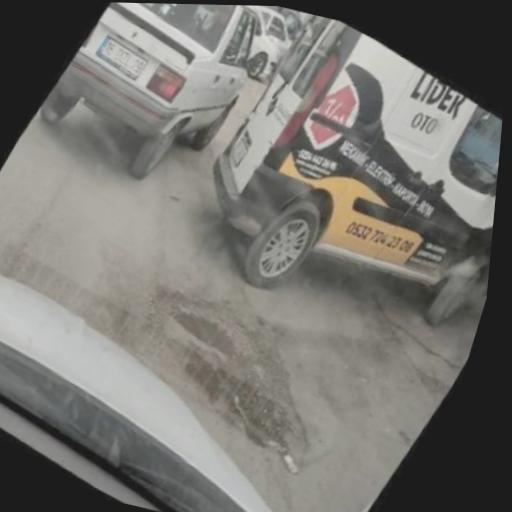pothole: (155, 293, 254, 368)
